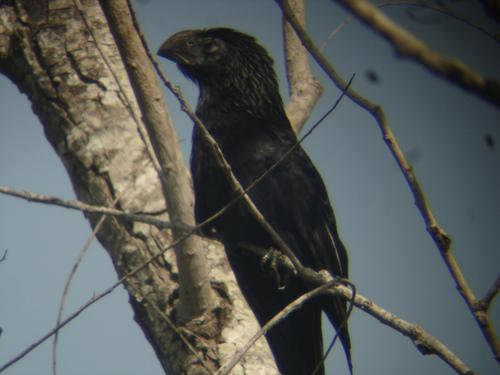004.Groove_billed_Ani: (155, 27, 353, 375)
